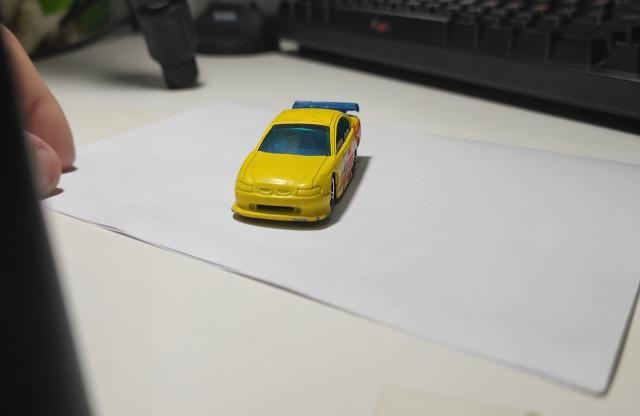02_OZSOME: (231, 102, 361, 231)
